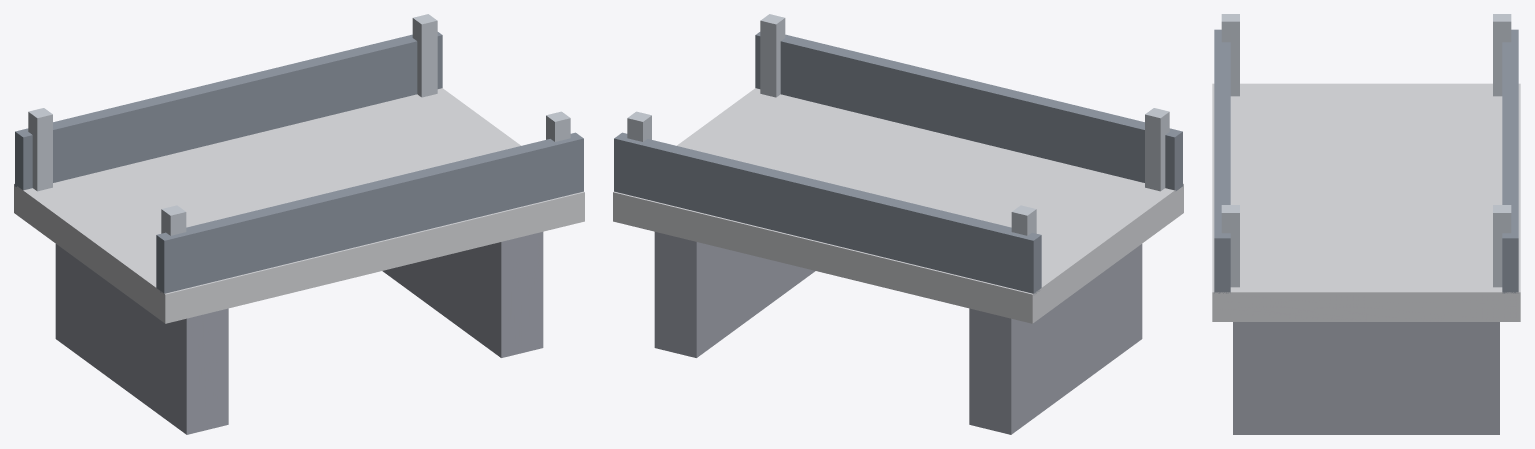
Rendered from bridge.glb.
The picture shows the model from 3 angles, left to right: view 1: azimuth 30°, elevation 25°; view 2: azimuth 150°, elevation 25°; view 3: azimuth 270°, elevation 25°; orthographic projection.
Parts seen in each view (by area): view 1: MetroBridge; view 2: MetroBridge; view 3: MetroBridge.
Part boxes in pixels (<box>): MetroBridge: <box>14,14,584,434</box>; MetroBridge: <box>613,14,1183,434</box>; MetroBridge: <box>1212,14,1520,434</box>.
Size of the model in its own units: 2.4 by 1.25 by 1.5.
